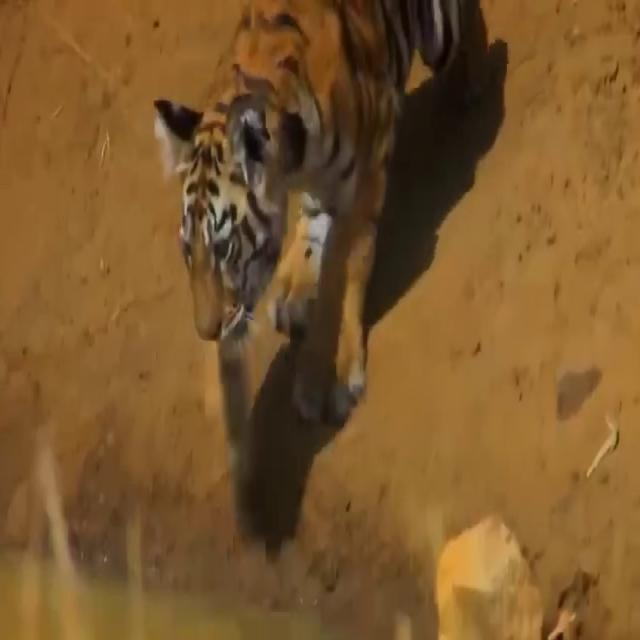tiger: (154, 1, 462, 428)
